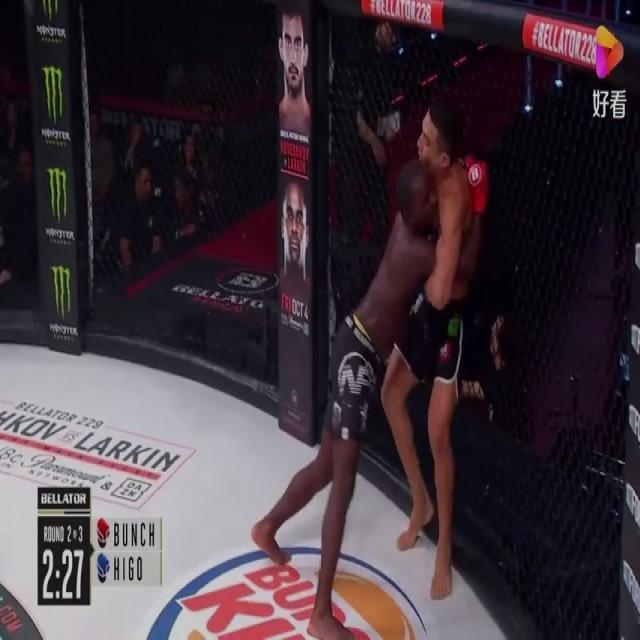fight: (252, 88, 486, 636)
